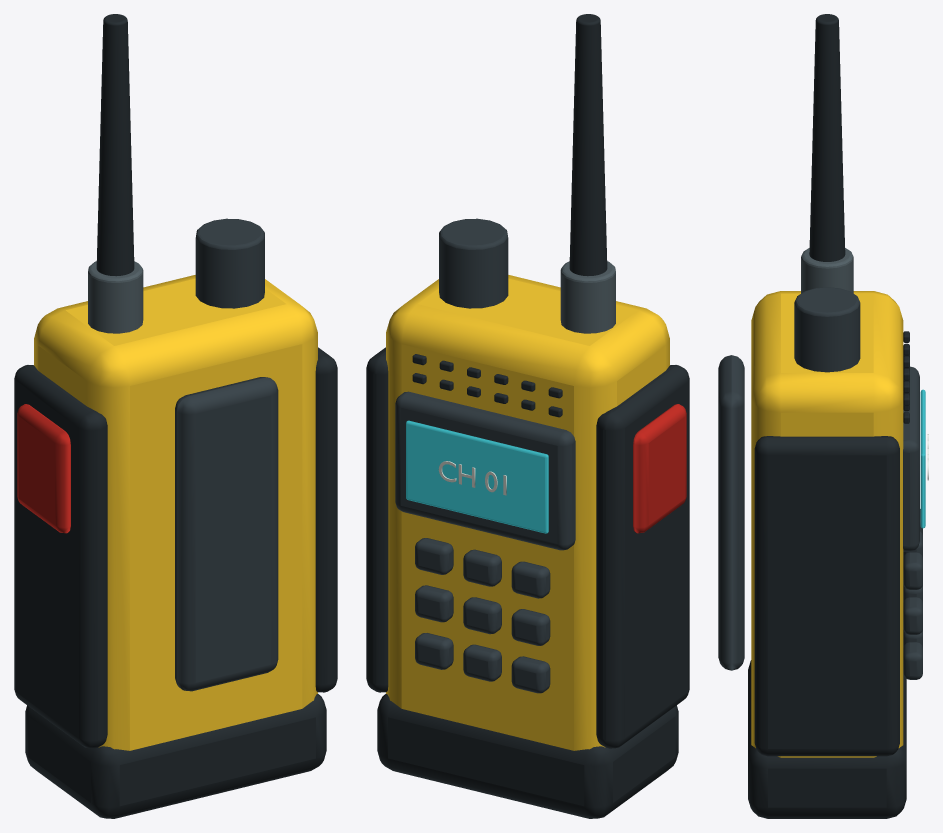
The model's file is rescue_radio.glb.
3 renders of one model, left to right at view 1: azimuth 30°, elevation 25°; view 2: azimuth 150°, elevation 25°; view 3: azimuth 270°, elevation 25°, orthographic. The views are drawn at different scales.
Visible parts, largest first — view 1: rescue_radio_render_mesh; view 2: rescue_radio_render_mesh; view 3: rescue_radio_render_mesh.
Part boxes in pixels (left/top/right/bottom): rescue_radio_render_mesh: left=14, top=14, right=337, bottom=818; rescue_radio_render_mesh: left=366, top=14, right=689, bottom=818; rescue_radio_render_mesh: left=718, top=14, right=928, bottom=818.
Bounding box in the file's own units: 0.0885 × 0.2425 × 0.0637.
